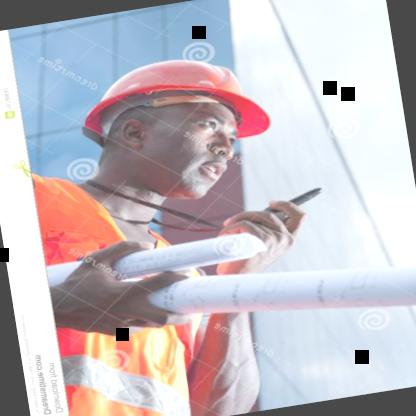helmet: (52, 29, 300, 219)
